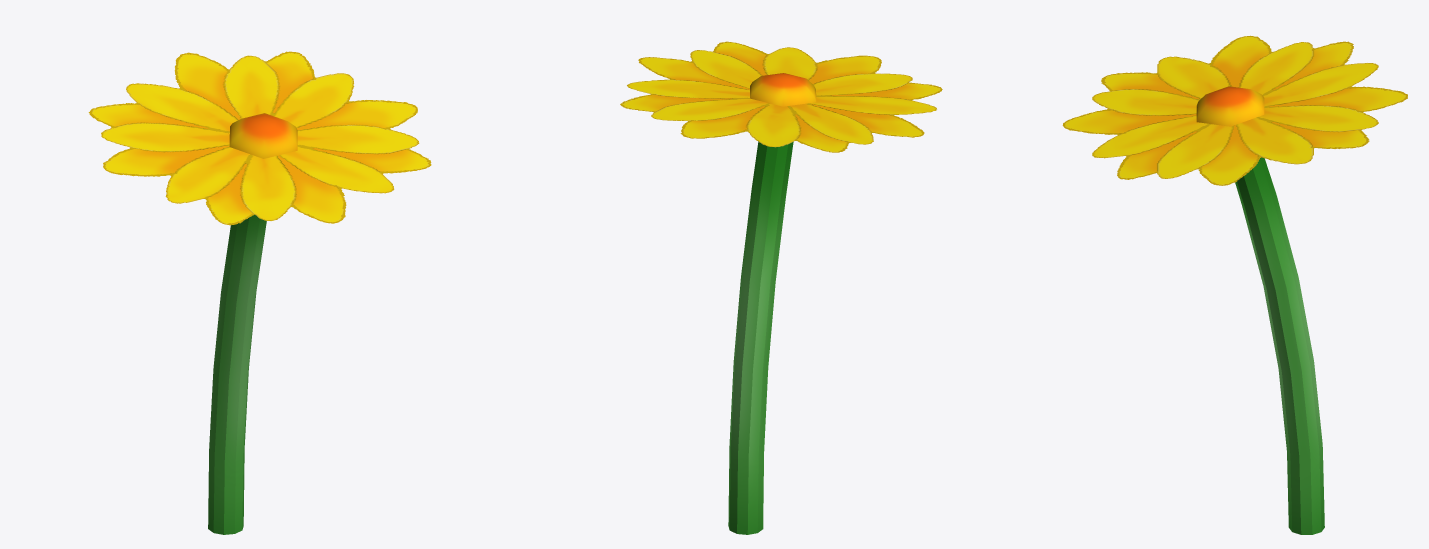
File: Yellow_Flower.fbx
3 renders of one model, left to right at view 1: azimuth 30°, elevation 25°; view 2: azimuth 150°, elevation 25°; view 3: azimuth 270°, elevation 25°, orthographic. The views are drawn at different scales.
Visible parts, largest first — view 1: Yellow_Flower; view 2: Yellow_Flower; view 3: Yellow_Flower.
Part boxes in pixels (box(x1,y1,x2,y2)): Yellow_Flower: box(88, 51, 431, 534); Yellow_Flower: box(620, 41, 942, 534); Yellow_Flower: box(1062, 35, 1407, 534).
Size of the model in its own units: 94.48 by 124 by 93.77.
